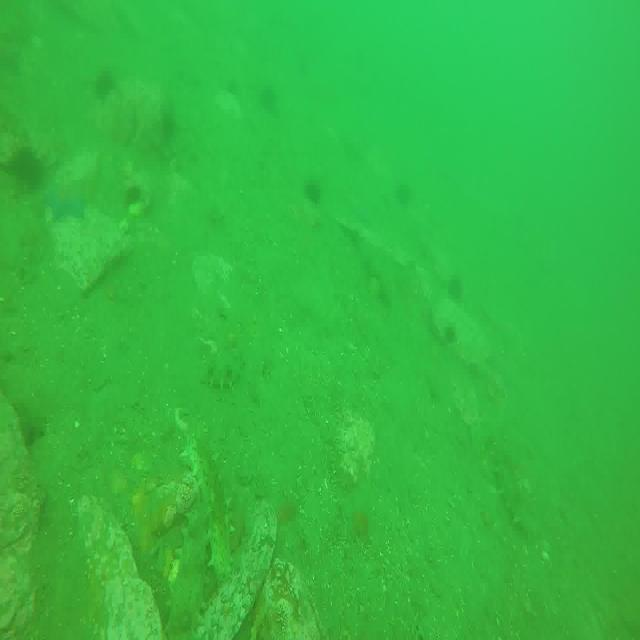echinus: (11, 143, 40, 187), (126, 180, 143, 212), (93, 68, 111, 96), (396, 180, 412, 206), (446, 275, 462, 301), (441, 320, 457, 344), (306, 173, 318, 204)
holothurian: (182, 431, 234, 584), (167, 510, 208, 640), (495, 454, 534, 533), (199, 354, 246, 390)
starfish: (47, 181, 90, 216)
